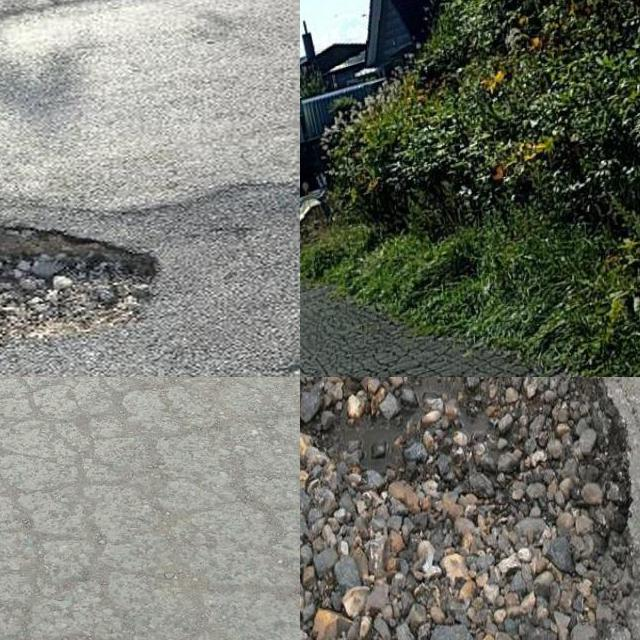Lubang: (300, 377, 640, 640), (0, 228, 166, 349)
Retak Buaya: (0, 377, 136, 561)
